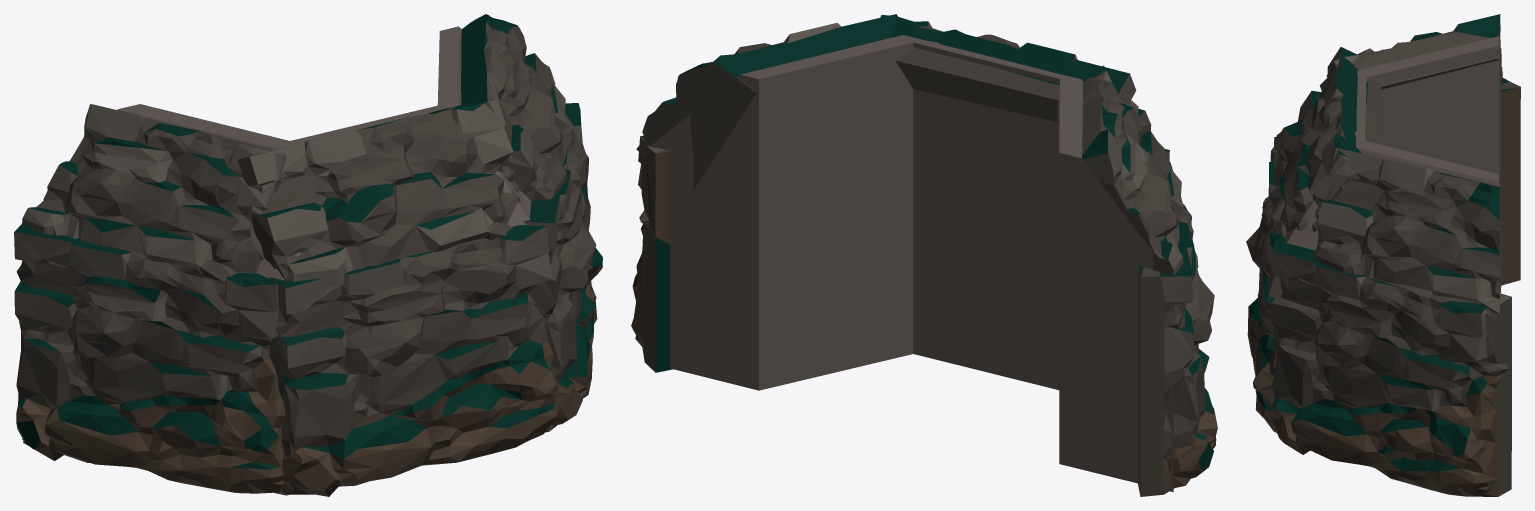
File: MCastle_SmallTurret_07.FBX
The picture shows the model from 3 angles, left to right: view 1: azimuth 30°, elevation 25°; view 2: azimuth 150°, elevation 25°; view 3: azimuth 270°, elevation 25°; orthographic projection. The views are drawn at different scales.
Visible parts, largest first — view 1: MCastle_SmallTurret_07_Wall_LOD0; view 2: MCastle_SmallTurret_07_Wall_LOD0; view 3: MCastle_SmallTurret_07_Wall_LOD0.
Part boxes in pixels (x1=…): MCastle_SmallTurret_07_Wall_LOD0: x1=14, y1=14, x2=602, y2=496; MCastle_SmallTurret_07_Wall_LOD0: x1=631, y1=14, x2=1217, y2=496; MCastle_SmallTurret_07_Wall_LOD0: x1=1246, y1=14, x2=1520, y2=496.
Size of what is drawn, in the model's own units: 8.89 by 4.79 by 4.15.
